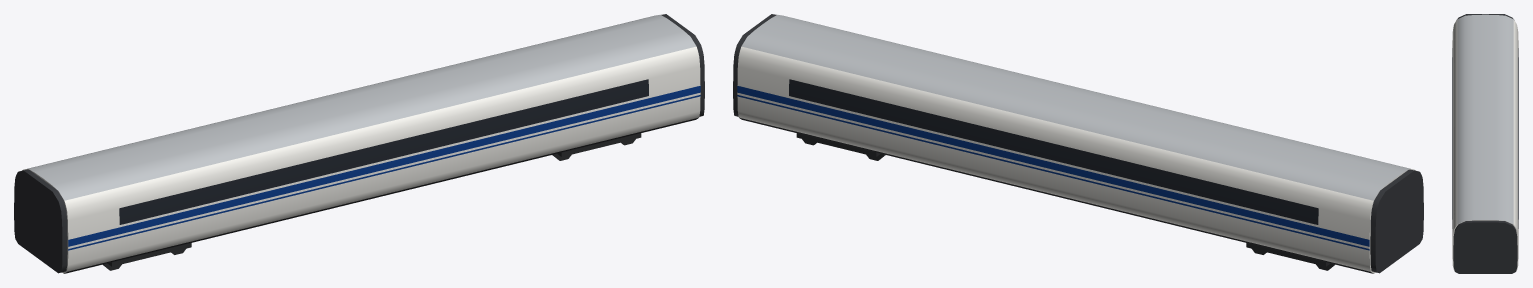
The model's file is n700s-mid.glb.
3 views of the same model, side by side, from view 1: azimuth 30°, elevation 25°; view 2: azimuth 150°, elevation 25°; view 3: azimuth 270°, elevation 25° (orthographic). The views are drawn at different scales.
Visible parts, largest first — view 1: N700S_Middle; view 2: N700S_Middle; view 3: N700S_Middle.
Boxes of the visible parts, x1=… form: N700S_Middle: x1=14, y1=14, x2=704, y2=273; N700S_Middle: x1=733, y1=14, x2=1423, y2=273; N700S_Middle: x1=1452, y1=14, x2=1518, y2=273.
Size of the model in its own units: 25 by 3.6 by 3.36.
